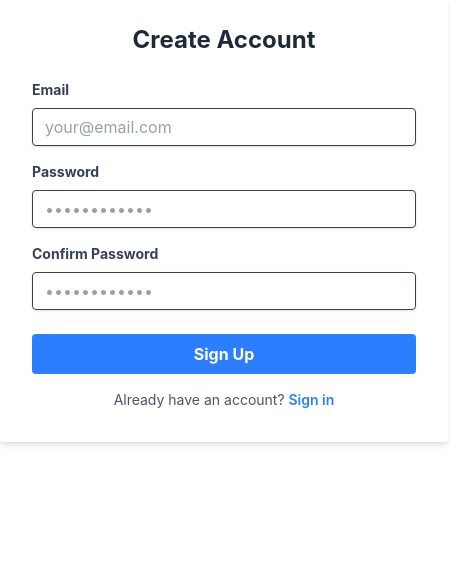
Scenario: RegisterForm › validates password complexity - minimum length
In the password field labelled "Password": (224, 209) [32,190,416,228], type "Short1!"
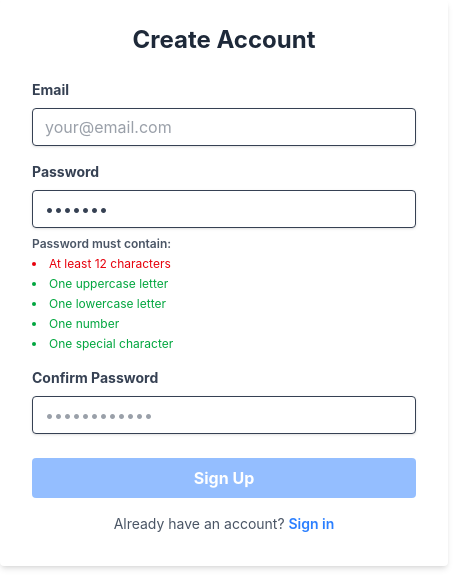
Result: the list item "At least 12 characters" is shown at [49,256,171,271]
